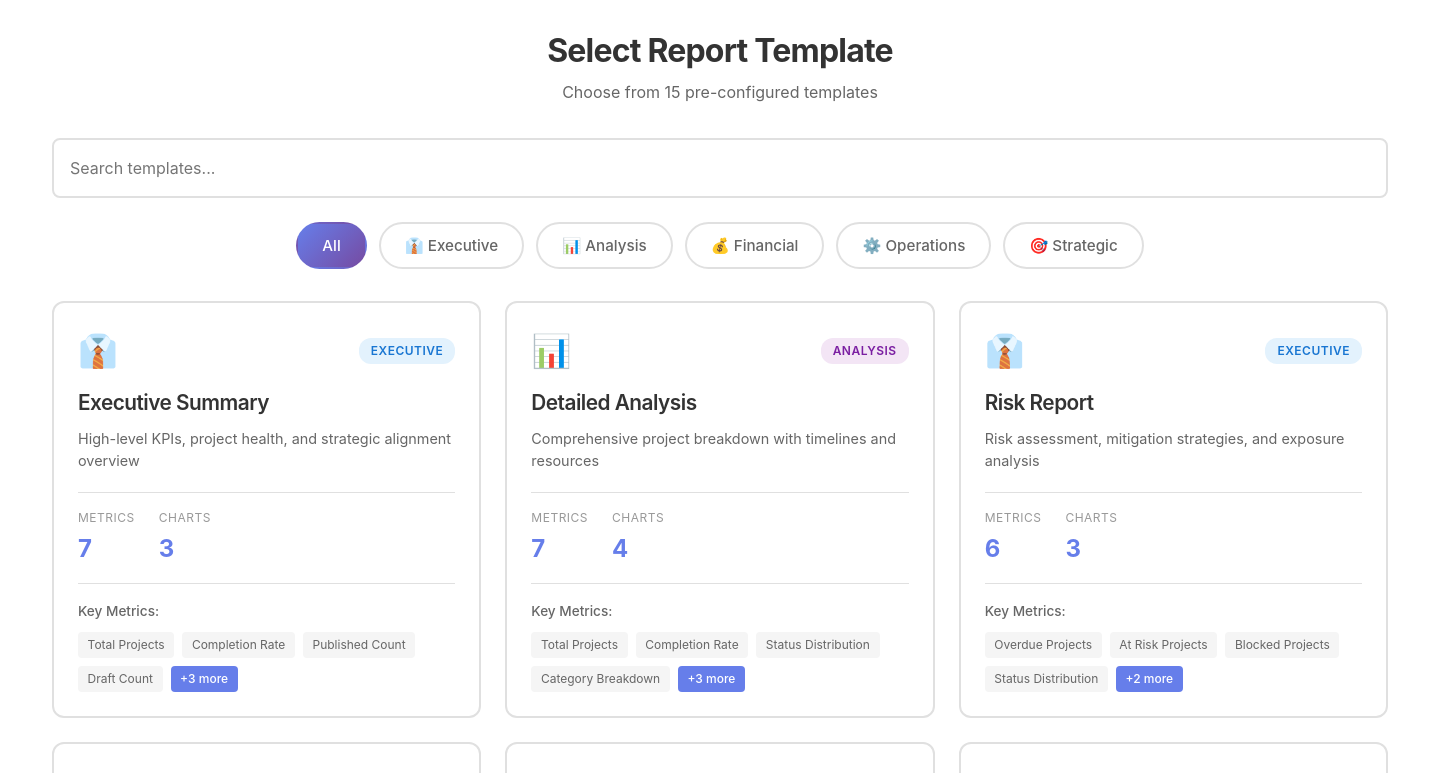
Test: TemplateSelector › Search Functionality › should show no results message when search finds nothing
Type "nonexistenttemplate123" into the field with placeholder "Search templates..." at (720, 168), box [52, 138, 1388, 198]
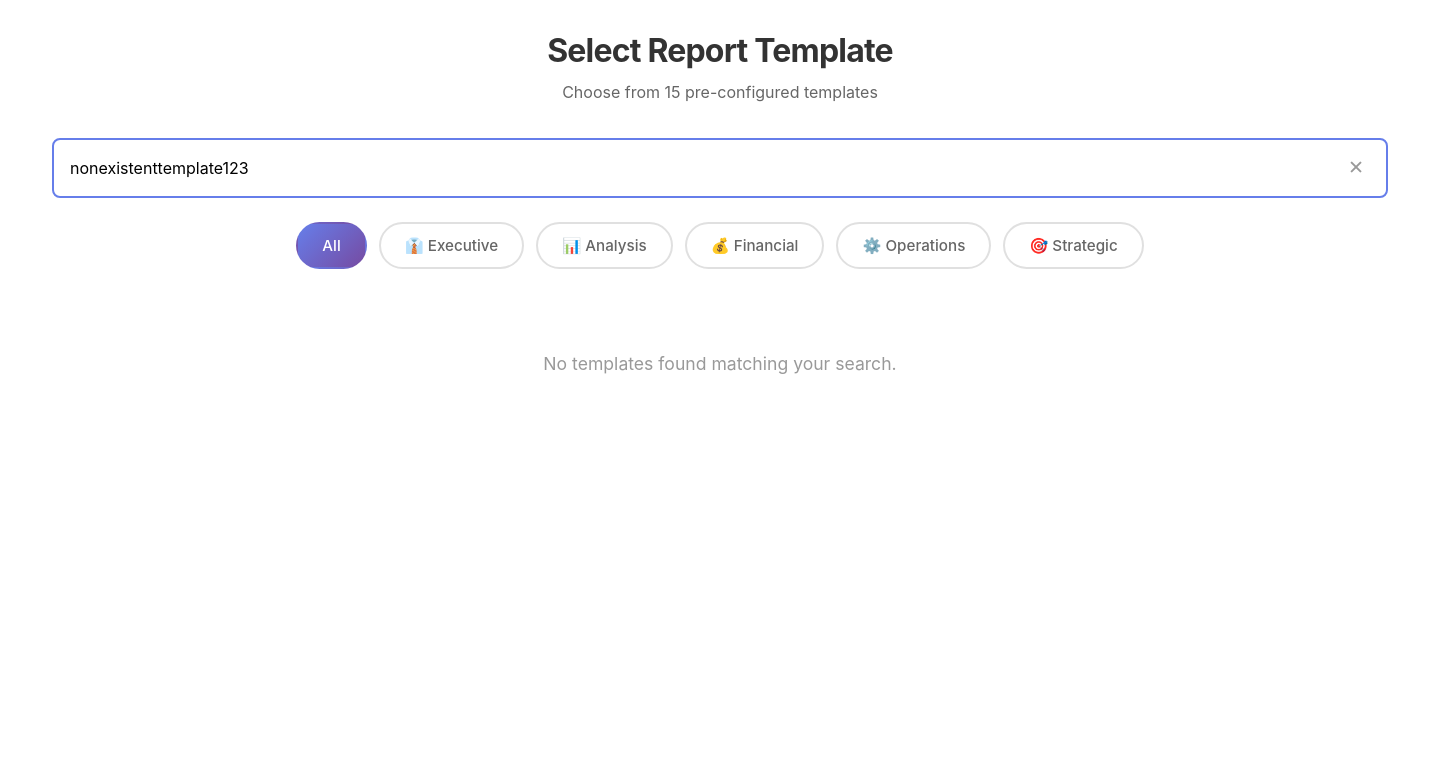
Result: the text "No templates found matching your search." is shown at [543, 353, 897, 374]
